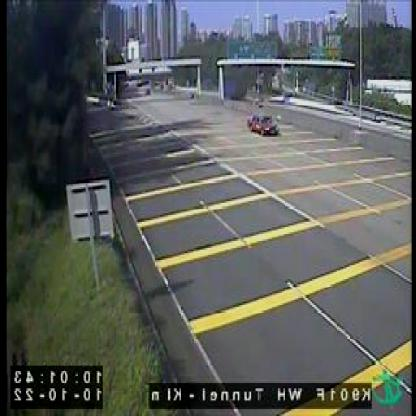Car: (247, 110, 276, 136)
